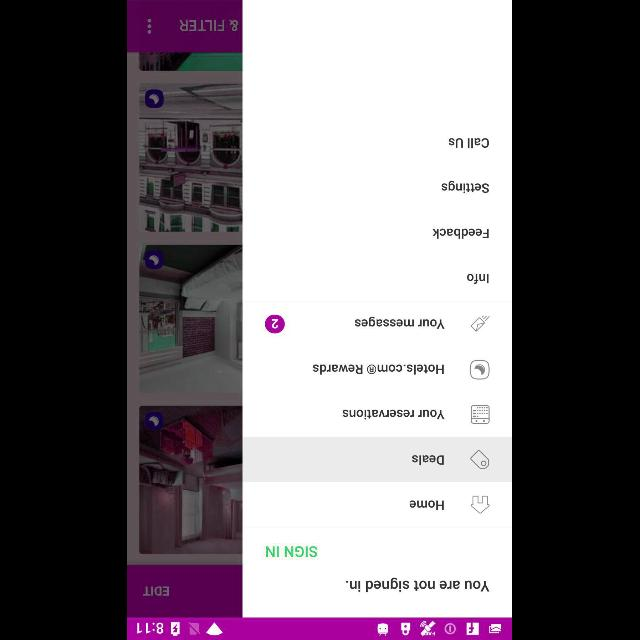icon: (472, 404, 491, 424), (470, 449, 490, 468), (472, 496, 491, 514), (472, 315, 491, 331), (149, 18, 153, 34)
image: (265, 314, 285, 334), (470, 360, 490, 380)
panel: (243, 0, 512, 618)
text: (346, 578, 490, 592), (314, 364, 444, 374), (355, 316, 445, 329), (343, 409, 445, 419), (442, 180, 490, 193), (266, 545, 318, 557), (181, 20, 239, 30), (432, 228, 490, 238), (450, 138, 490, 148), (413, 454, 445, 466), (410, 500, 444, 510), (143, 586, 169, 596), (467, 274, 489, 284)
uppertaskbar: (128, 617, 512, 639)
